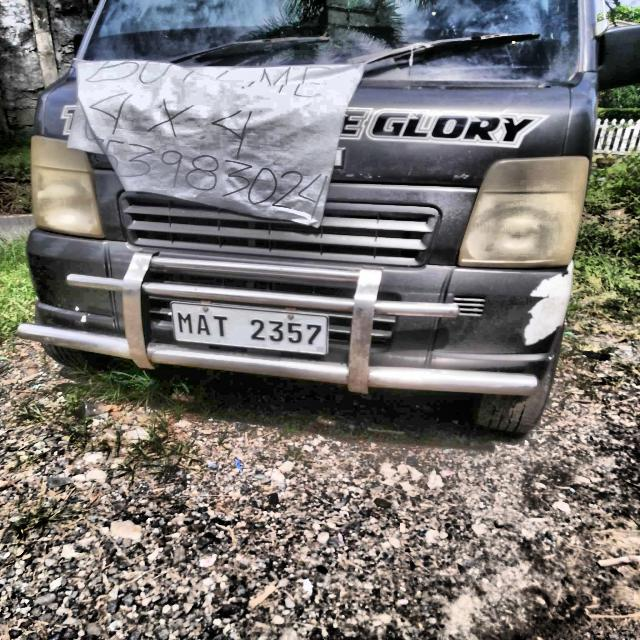license-plate: (166, 301, 334, 356)
